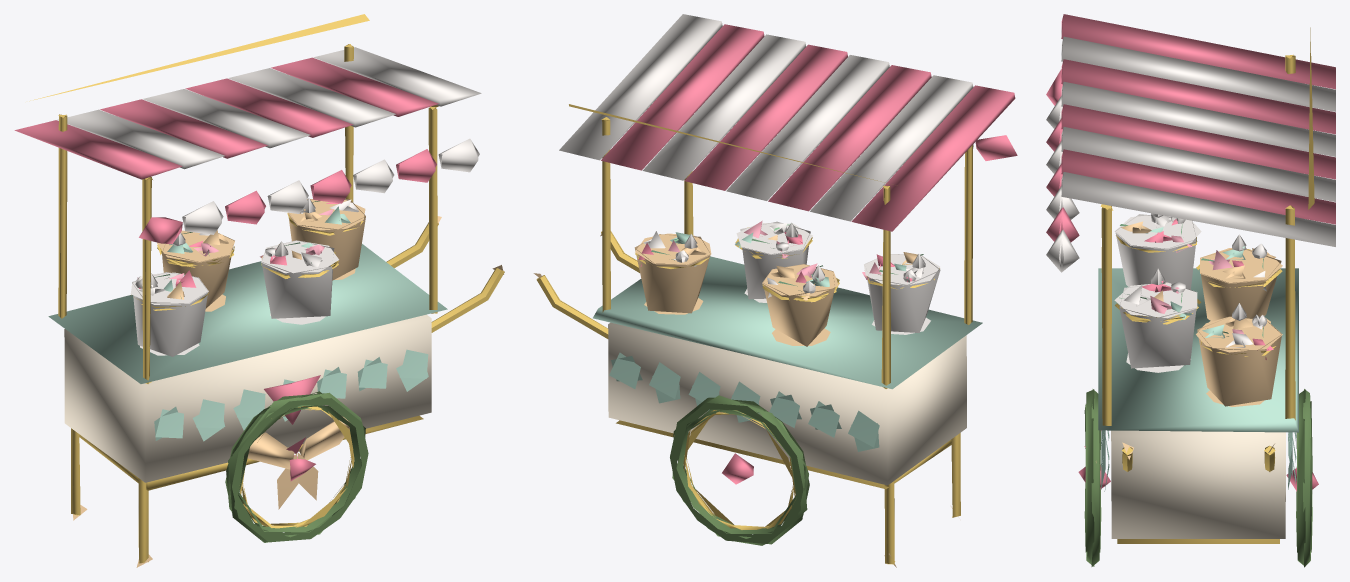
The model's file is lod_flower_cart.glb.
3 renders of one model, left to right at view 1: azimuth 30°, elevation 25°; view 2: azimuth 150°, elevation 25°; view 3: azimuth 270°, elevation 25°, orthographic. The views are drawn at different scales.
Visible parts, largest first — view 1: flower_cart; view 2: flower_cart; view 3: flower_cart.
Boxes of the visible parts, x1,y1,x2,y2 form: flower_cart: [14, 14, 504, 567]; flower_cart: [533, 14, 1017, 567]; flower_cart: [1046, 14, 1335, 567].
Size of the model in its own units: 2.46 by 2.49 by 1.43.
